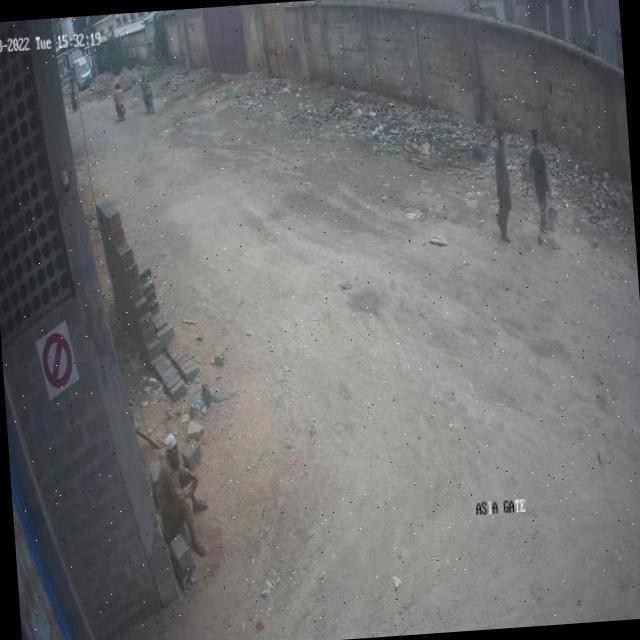person: (150, 430, 210, 566), (526, 128, 559, 242), (487, 126, 516, 242), (136, 72, 156, 100), (112, 79, 126, 114)
